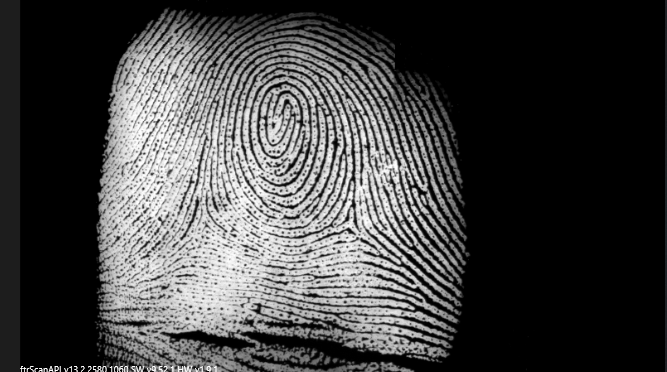nucelo: (271, 93, 299, 140)
verticilo: (191, 206, 218, 236), (335, 210, 360, 234)
